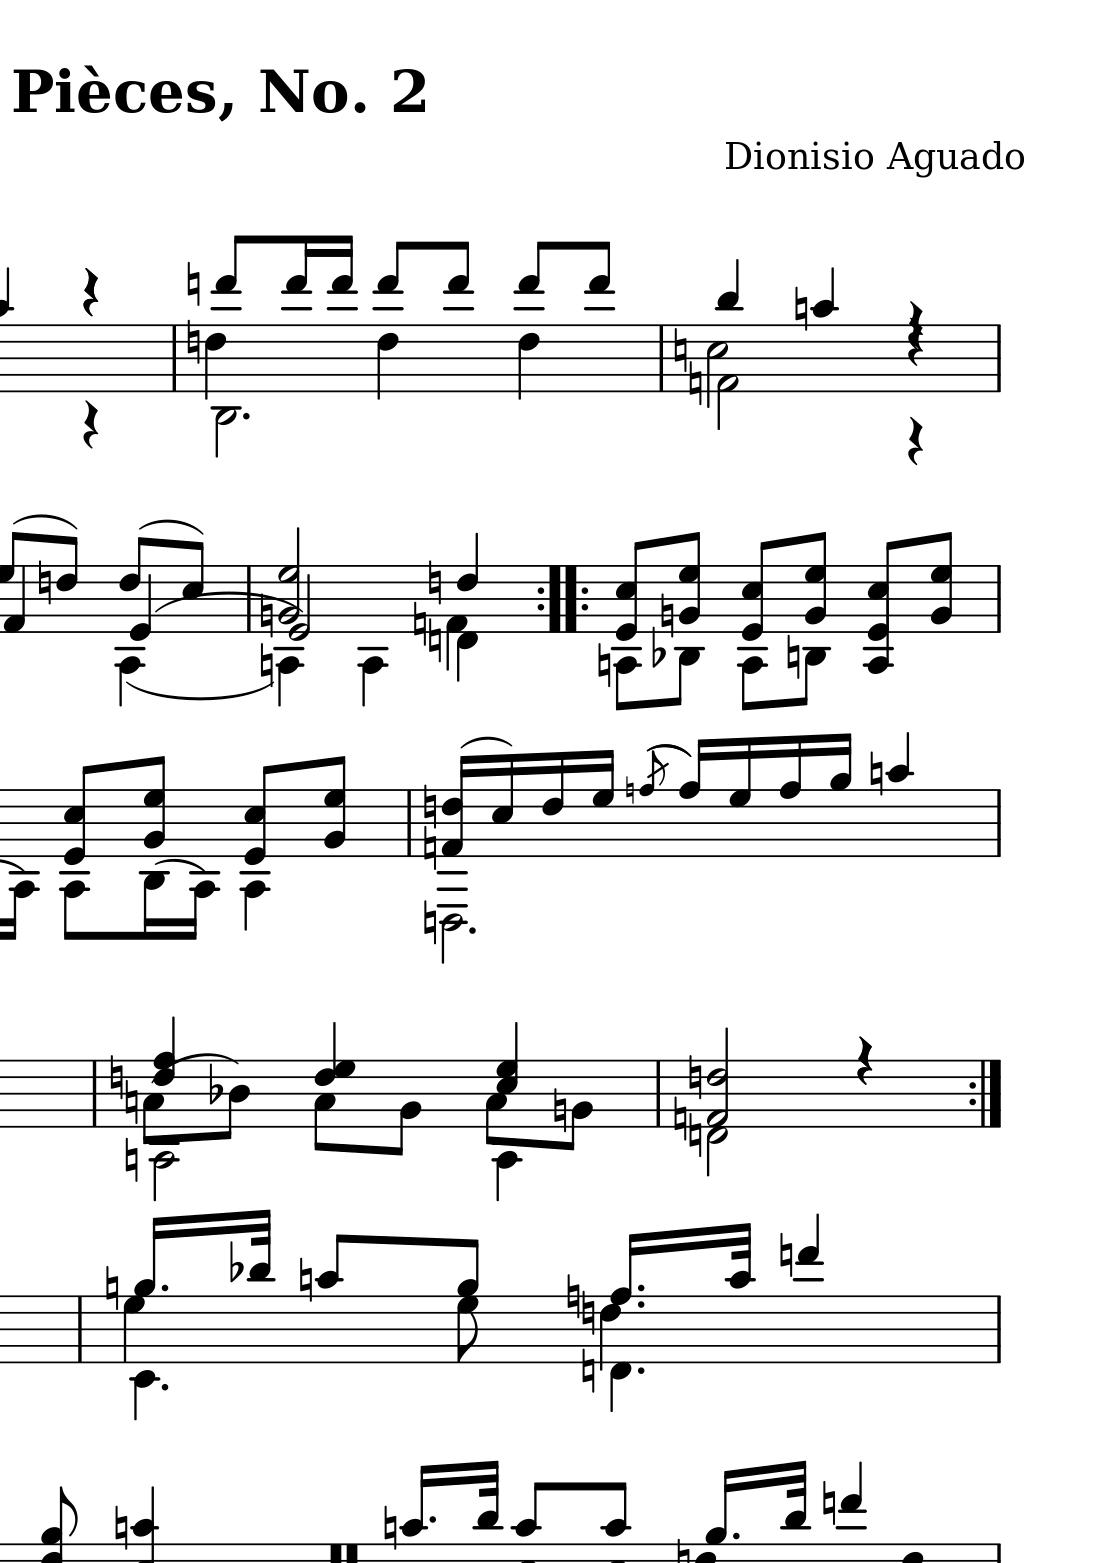16_-4: (183, 788, 219, 941), (5, 784, 39, 941)
16_13: (280, 234, 315, 395), (326, 236, 355, 393)
16_1_6: (441, 755, 477, 861)
16_5: (489, 752, 515, 860)
16_6: (541, 750, 566, 859)
16_7: (727, 734, 752, 859), (591, 747, 615, 857)
16_8: (677, 737, 712, 860), (779, 734, 802, 857)
16_9: (828, 729, 853, 857)
32_10: (725, 1220, 753, 1366)
32_11: (244, 1207, 274, 1366)
4_-4: (358, 564, 387, 706)
4_10: (808, 267, 837, 393), (885, 729, 911, 859)
4_13: (795, 1211, 823, 1364)
4_6: (374, 322, 399, 402), (517, 320, 541, 403)
8_0_5: (613, 537, 651, 640), (243, 764, 280, 866), (62, 763, 94, 866), (740, 537, 771, 641)
8_10: (313, 1232, 347, 1364)
8_13: (442, 240, 474, 395), (584, 240, 615, 393)
8_2: (387, 1057, 421, 1158), (566, 1060, 593, 1154)
8_2_7: (676, 531, 702, 636), (802, 531, 829, 635), (930, 531, 956, 635), (144, 755, 169, 857), (323, 756, 347, 859)
8_4: (219, 1060, 250, 1141)
8_5: (181, 539, 204, 634)
8_6: (55, 535, 79, 636)
8_7: (454, 1296, 480, 1364)
Acciaccature: (639, 750, 665, 859)
Flat: (226, 1238, 244, 1283), (206, 1061, 222, 1107), (649, 625, 665, 670)
Natural: (425, 606, 441, 667), (672, 1093, 690, 1148), (102, 1262, 120, 1315), (185, 260, 204, 309), (33, 558, 53, 608), (686, 355, 703, 409), (686, 1103, 702, 1159), (122, 1135, 139, 1185), (381, 1503, 398, 1553), (411, 599, 427, 653), (425, 558, 442, 605), (785, 633, 801, 682), (121, 1077, 138, 1127), (297, 1254, 313, 1303), (112, 1503, 129, 1552), (672, 324, 688, 377), (564, 1271, 580, 1324), (579, 1347, 596, 1394), (421, 897, 436, 948), (258, 641, 274, 691), (658, 592, 674, 639), (580, 1286, 596, 1336), (868, 749, 884, 798), (779, 1231, 794, 1280), (793, 283, 808, 331), (596, 641, 611, 689), (421, 824, 436, 871), (551, 1087, 567, 1132), (822, 1478, 837, 1524), (185, 318, 200, 367), (686, 1052, 701, 1099), (423, 781, 438, 828), (258, 596, 273, 639), (623, 775, 635, 806)
Rests4: (905, 300, 926, 368), (78, 399, 100, 453), (79, 264, 102, 318), (855, 1034, 875, 1087), (905, 415, 923, 470)
RightAndLeftRepeatSign: (533, 564, 592, 631)
RightRepeatSign: (965, 1060, 1005, 1128)
Single_barline: (989, 1296, 1007, 1363), (989, 325, 1007, 391), (401, 790, 417, 856), (990, 790, 1007, 856), (71, 1298, 87, 1361), (242, 564, 257, 631), (990, 566, 1006, 633), (86, 1061, 102, 1127), (651, 1061, 666, 1127), (653, 326, 669, 391), (166, 325, 181, 390), (989, 1543, 1007, 1563)
Slur: (139, 515, 203, 537), (13, 511, 77, 532), (173, 1051, 236, 1067), (458, 734, 514, 751), (648, 743, 691, 759), (155, 857, 207, 871)
dot: (633, 1299, 648, 1311), (158, 1282, 171, 1295), (634, 1282, 647, 1295), (425, 1514, 438, 1527), (635, 1363, 647, 1376), (240, 410, 252, 422), (729, 1530, 741, 1541), (466, 924, 477, 936), (158, 1381, 170, 1392)
